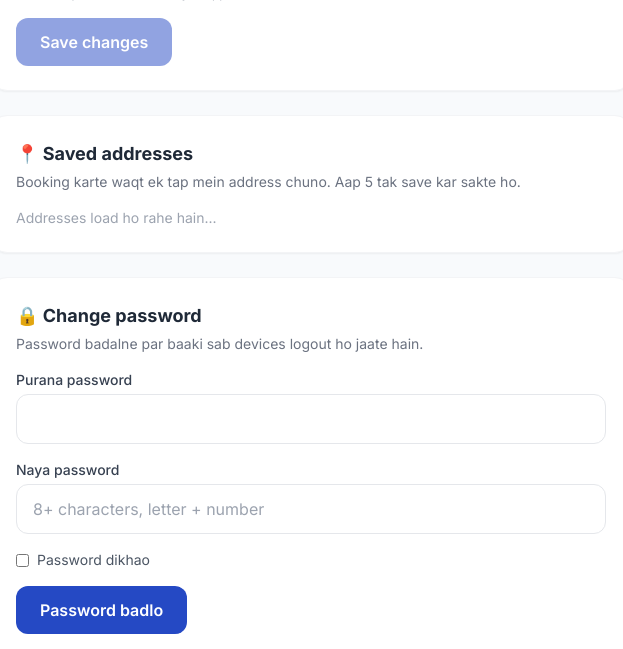
Test case: after a password change the session switches to the fresh token
(page scrolled)
In the password field labelled "Purana password": coordinates (311, 419) [16,394,606,444], type "Old12345"
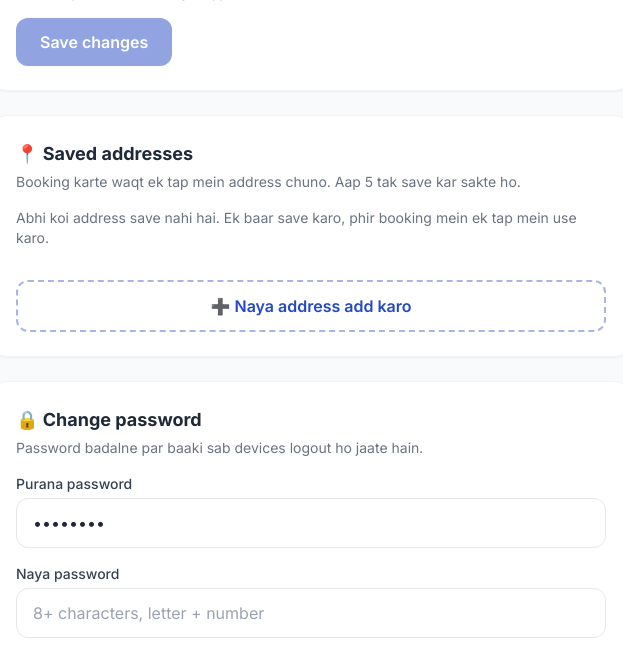
In the password field labelled "Naya password": coordinates (311, 613) [16,588,606,638], type "Brandnew123"
(page scrolled)
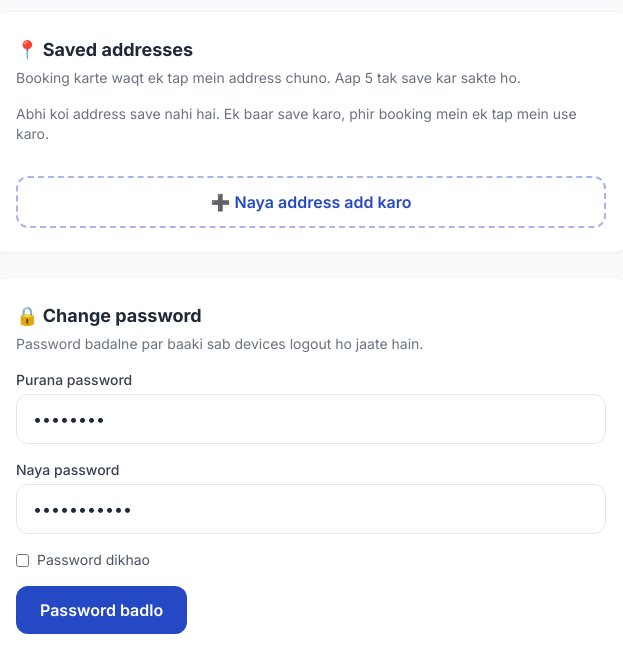
Click the button "Password badlo": coordinates (102, 610) [16,586,187,634]
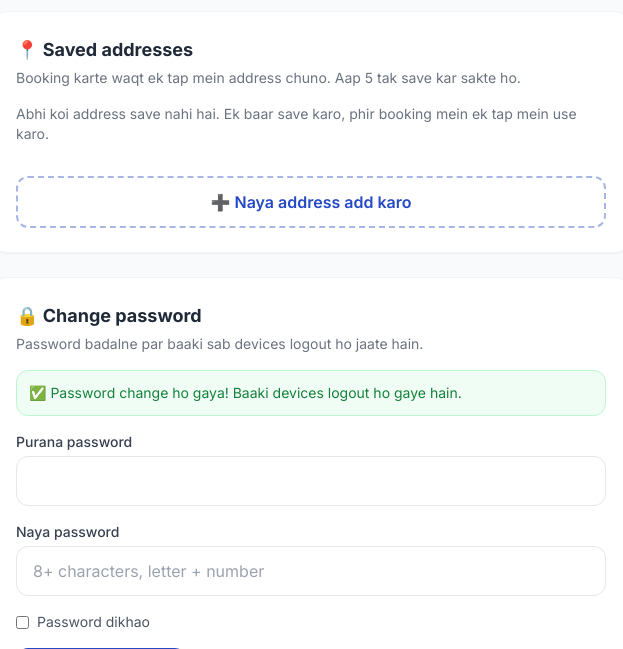
Check: the text "✅ Password change ho gaya! Baaki devices logout ho gaye hain." is shown, box [16,370,606,416]
